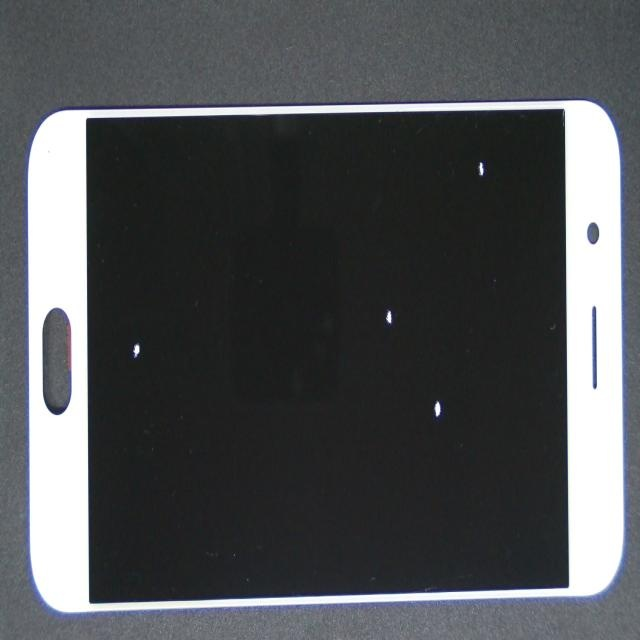stain: (233, 232, 640, 609), (226, 149, 612, 440), (259, 87, 640, 221), (87, 147, 215, 481)
